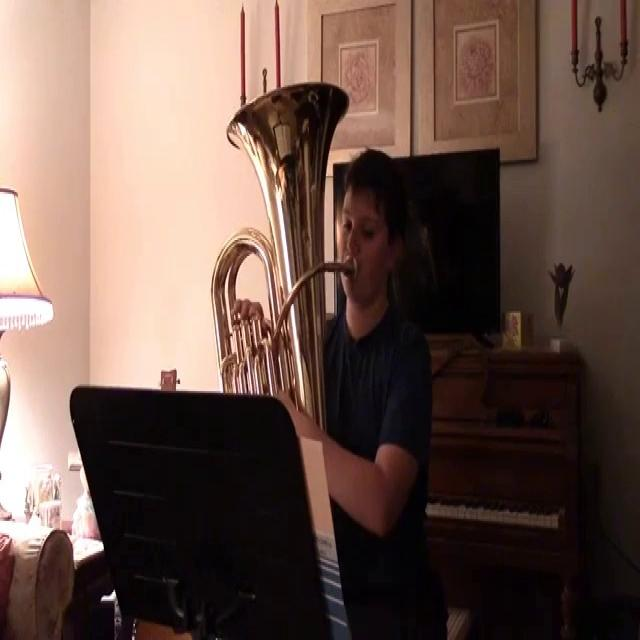Tuba: (214, 84, 349, 416)
